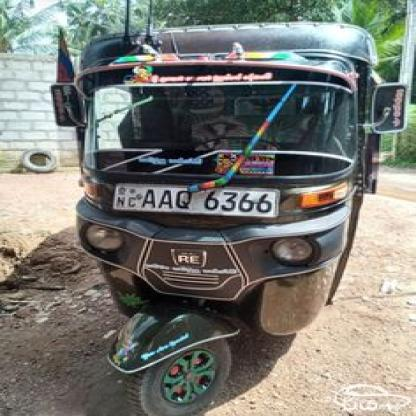number plate: (112, 185, 274, 217)
three wheeler front: (47, 17, 409, 414)
